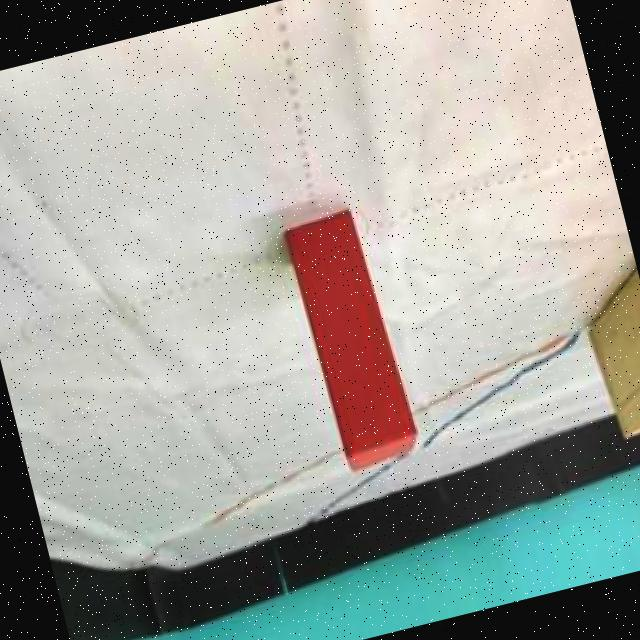redbox: (284, 205, 422, 478)
